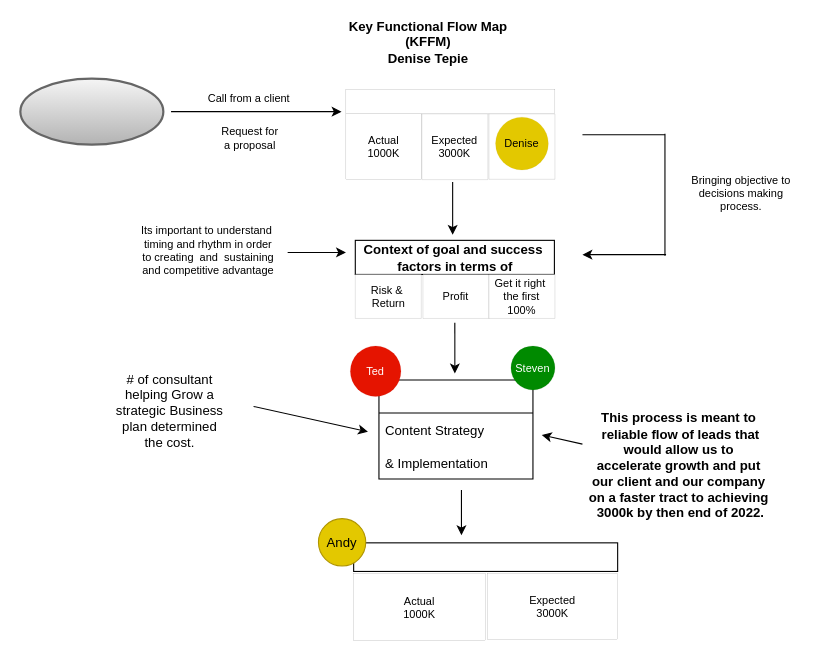
The diagram is 821 pixels wide and 660 high, and some of its shapes have lost their labels. The shapes that lost their labels are listed below. From the top down, each one's box as (x1, y1, x2, y2) in pixels, then its label:
(19, 77, 164, 145): Clients
(345, 89, 554, 113): Consulting Service
(378, 379, 533, 479): Review the Business Strategy plan
(353, 542, 618, 571): Finance
